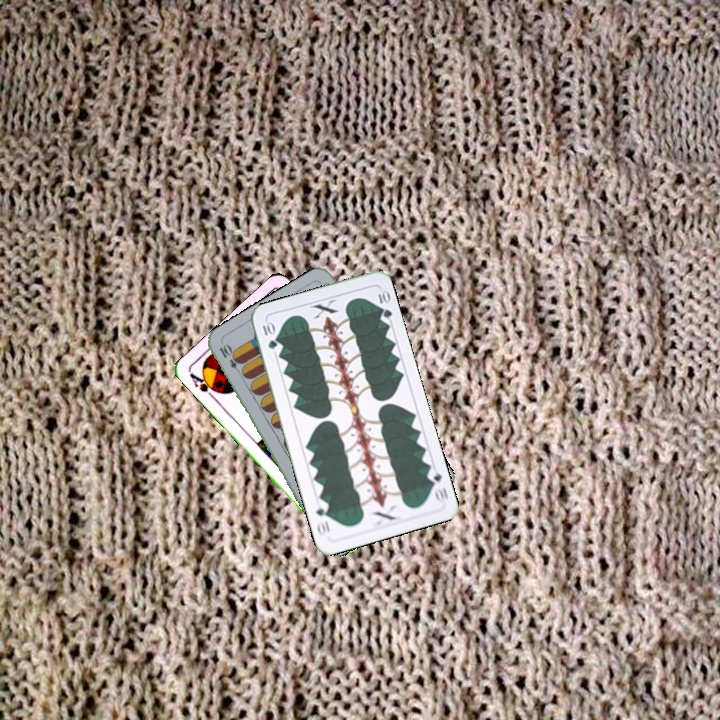E10: (215, 340, 245, 378)
G10: (423, 466, 451, 506), (258, 318, 280, 352)
SA: (186, 369, 222, 402)
